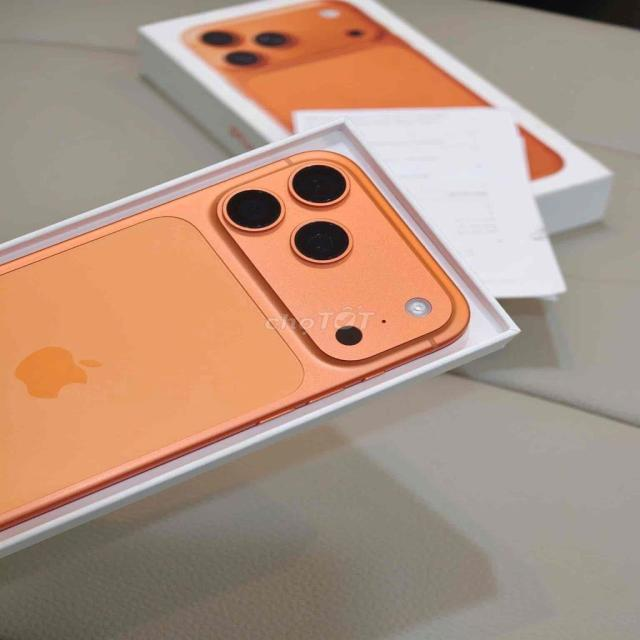gen_17: (0, 119, 518, 521), (0, 150, 469, 528), (0, 0, 209, 353)
